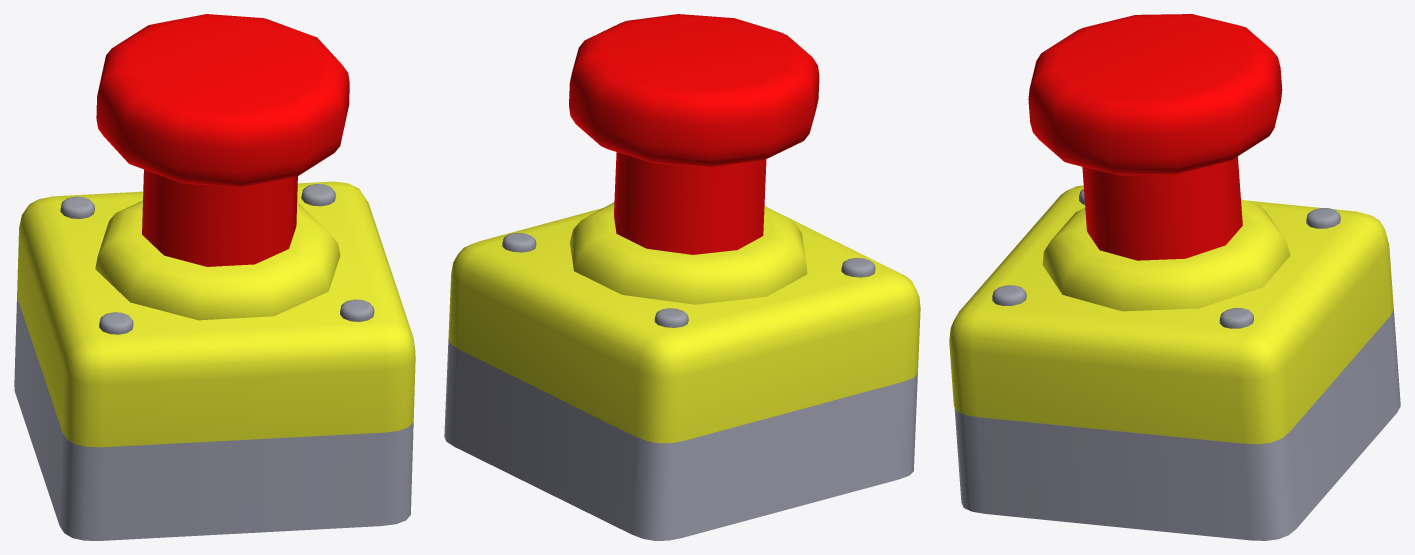
Rendered from boton.glb.
3 views of the same model, side by side, from view 1: azimuth 30°, elevation 25°; view 2: azimuth 150°, elevation 25°; view 3: azimuth 270°, elevation 25° (orthographic).
Visible parts, largest first — view 1: BaseTop, BaseBottom, ButtonTop, BaseTop2, ButtonBottom, Screws; view 2: BaseTop, BaseBottom, ButtonTop, BaseTop2, ButtonBottom, Screws; view 3: BaseTop, BaseBottom, ButtonTop, BaseTop2, ButtonBottom, Screws.
Part boxes in pixels (bbox=[...]): BaseTop: bbox=[17, 181, 415, 447]; BaseBottom: bbox=[14, 291, 413, 540]; ButtonTop: bbox=[96, 14, 349, 187]; BaseTop2: bbox=[95, 200, 340, 320]; ButtonBottom: bbox=[142, 169, 297, 266]; Screws: bbox=[60, 184, 374, 334]; BaseTop: bbox=[448, 206, 920, 443]; BaseBottom: bbox=[444, 339, 917, 540]; ButtonTop: bbox=[569, 14, 819, 167]; BaseTop2: bbox=[569, 202, 807, 304]; ButtonBottom: bbox=[614, 152, 766, 254]; Screws: bbox=[502, 233, 875, 327]; BaseTop: bbox=[949, 185, 1393, 444]; BaseBottom: bbox=[954, 309, 1400, 540]; ButtonTop: bbox=[1028, 14, 1282, 175]; BaseTop2: bbox=[1042, 199, 1290, 311]; ButtonBottom: bbox=[1082, 156, 1242, 260]; Screws: bbox=[992, 189, 1340, 328].
Size of the model in its own units: 0.6211 by 0.6417 by 0.6353.
